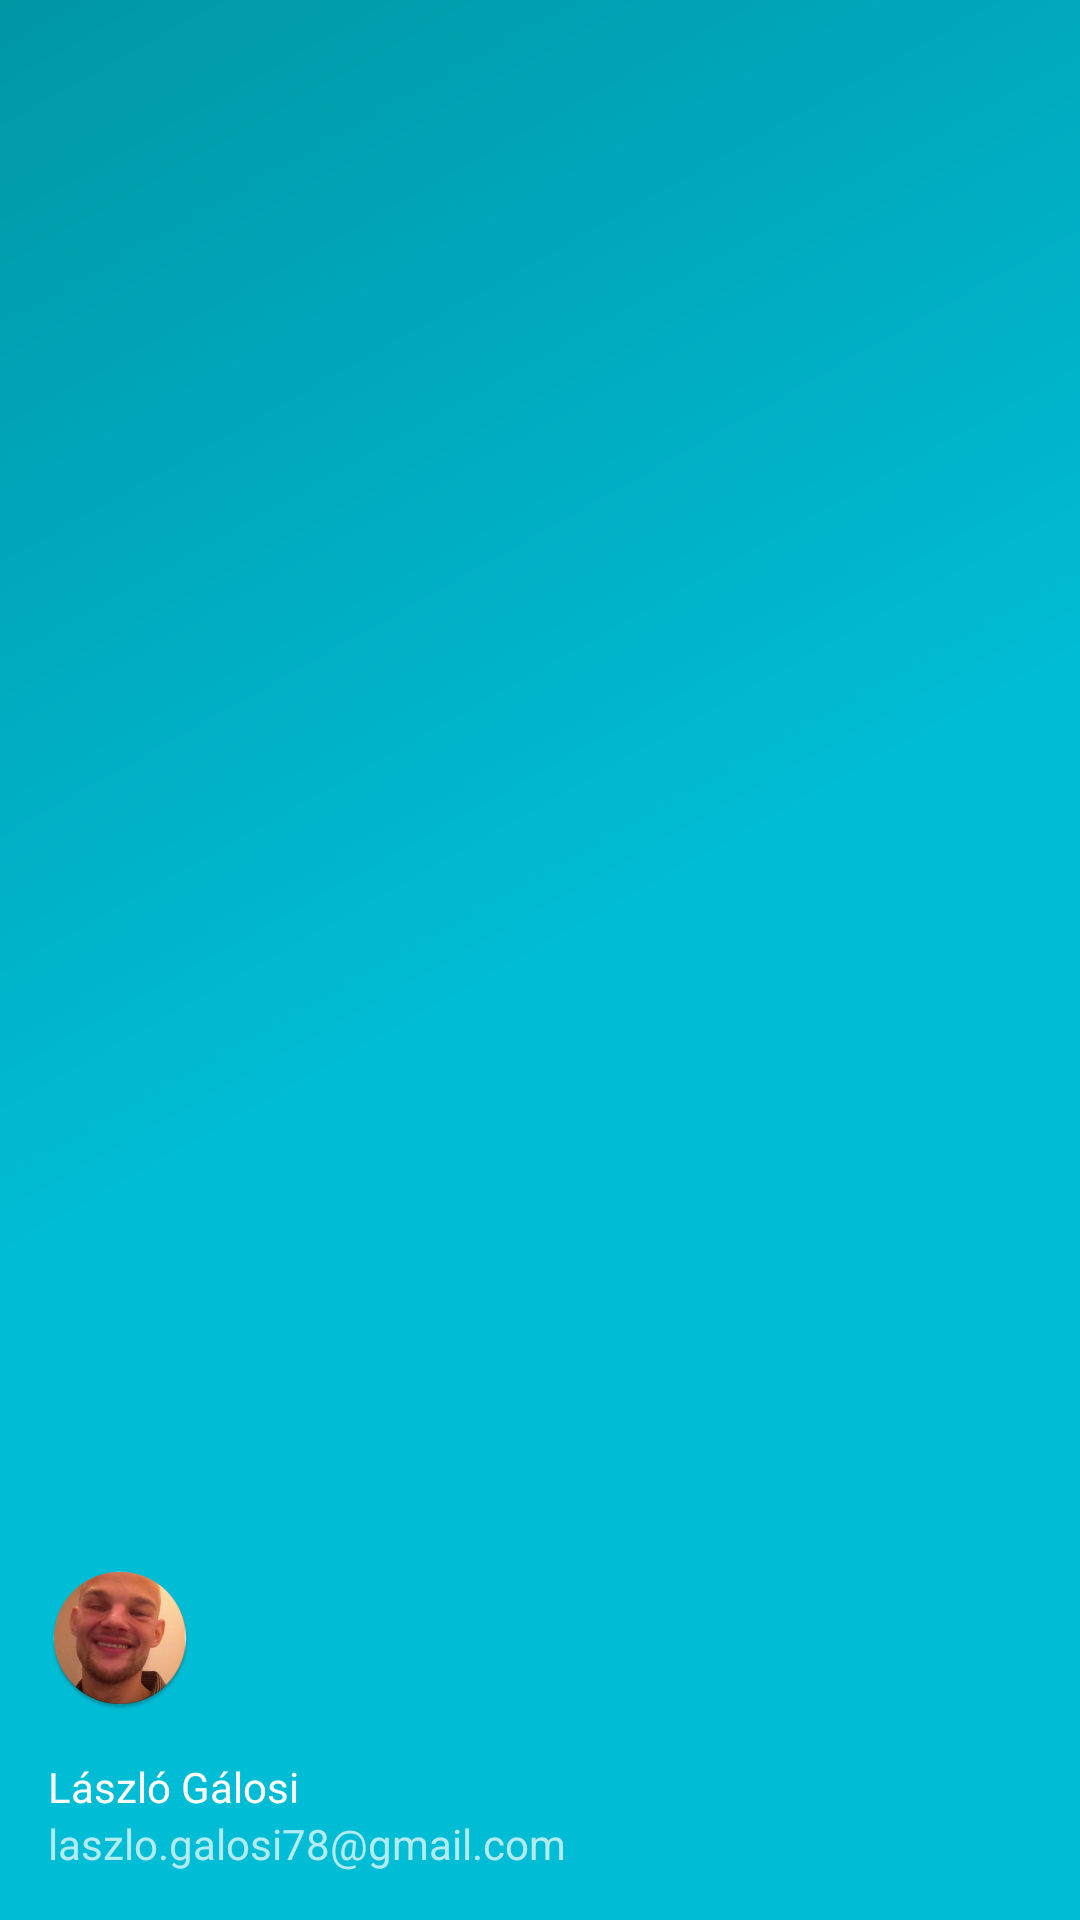

Icons on this 1080 × 1920 Android screen, each with the point to tap as point (x, y):
profile: point (120, 1639)
